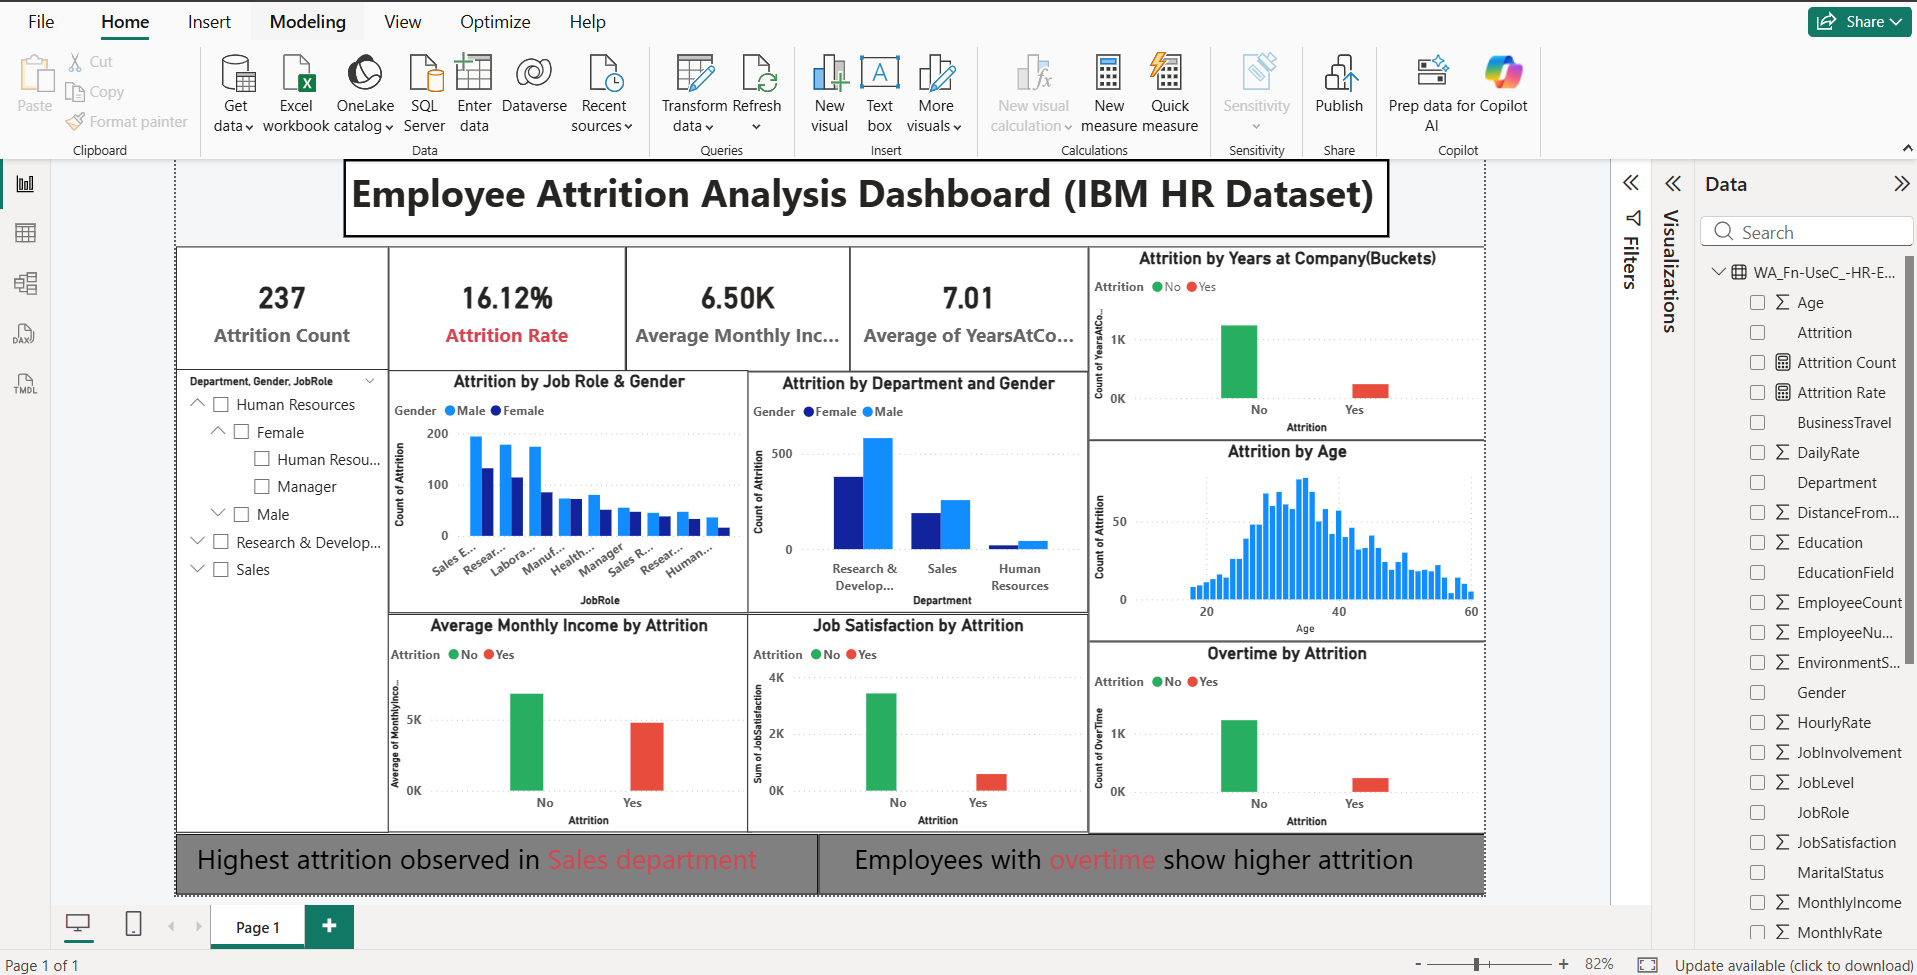

The page's visual inventory and layout, read from the dashboard file:
{"tool":"powerbi","page":{"name":"Page 1","canvas":[1280,720],"ordinal":0},"visuals":[{"type":"textbox","box":[163.7,0,1023.4,76.8],"z":0},{"type":"card","fields":{"Values":["WA_Fn-UseC_-HR-Employee-Attrition.Attrition Count"]},"box":[0,85.6,207.9,122.3],"z":1000},{"type":"card","fields":{"Values":["WA_Fn-UseC_-HR-Employee-Attrition.Attrition Rate"]},"box":[207.9,85.6,232.3,122.3],"z":2000},{"type":"card","fields":{"Values":["Avg(WA_Fn-UseC_-HR-Employee-Attrition.MonthlyIncome)"]},"box":[440.2,85.6,218.9,122.3],"z":3000},{"type":"clusteredColumnChart","title":"Average Monthly Income by Attrition ","fields":{"Category":["WA_Fn-UseC_-HR-Employee-Attrition.Attrition"],"Y":["Avg(WA_Fn-UseC_-HR-Employee-Attrition.MonthlyIncome)"],"Series":["WA_Fn-UseC_-HR-Employee-Attrition.Attrition"]},"box":[204.2,445.1,359.5,214],"z":4000},{"type":"clusteredColumnChart","title":"Overtime by Attrition","fields":{"Category":["WA_Fn-UseC_-HR-Employee-Attrition.Attrition"],"Y":["CountNonNull(WA_Fn-UseC_-HR-Employee-Attrition.OverTime)"],"Series":["WA_Fn-UseC_-HR-Employee-Attrition.Attrition"]},"box":[892.7,472,387.6,188.3],"z":5000},{"type":"clusteredColumnChart","title":"Attrition by Department and Gender","fields":{"Category":["WA_Fn-UseC_-HR-Employee-Attrition.Department"],"Series":["WA_Fn-UseC_-HR-Employee-Attrition.Gender"],"Y":["CountNonNull(WA_Fn-UseC_-HR-Employee-Attrition.Attrition)"]},"box":[558.8,207.9,333.8,236],"z":6000},{"type":"slicer","fields":{"Values":["WA_Fn-UseC_-HR-Employee-Attrition.Department","WA_Fn-UseC_-HR-Employee-Attrition.Gender","WA_Fn-UseC_-HR-Employee-Attrition.JobRole"]},"box":[0,205.4,207.9,453.7],"z":7000},{"type":"clusteredColumnChart","title":"Attrition by Age","fields":{"Category":["WA_Fn-UseC_-HR-Employee-Attrition.Age"],"Y":["CountNonNull(WA_Fn-UseC_-HR-Employee-Attrition.Attrition)"]},"box":[892.7,275.1,387.6,196.9],"z":8000},{"type":"clusteredColumnChart","title":"Job Satisfaction by Attrition ","fields":{"Category":["WA_Fn-UseC_-HR-Employee-Attrition.Attrition"],"Y":["Sum(WA_Fn-UseC_-HR-Employee-Attrition.JobSatisfaction)"],"Series":["WA_Fn-UseC_-HR-Employee-Attrition.Attrition"]},"box":[558.8,445.1,333.8,214],"z":9000},{"type":"card","fields":{"Values":["Avg(WA_Fn-UseC_-HR-Employee-Attrition.YearsAtCompany)"]},"box":[659.1,85.6,233.6,122.3],"z":10000},{"type":"clusteredColumnChart","title":"Attrition by Job Role & Gender","fields":{"Category":["WA_Fn-UseC_-HR-Employee-Attrition.JobRole"],"Y":["CountNonNull(WA_Fn-UseC_-HR-Employee-Attrition.Attrition)"],"Series":["WA_Fn-UseC_-HR-Employee-Attrition.Gender"]},"box":[207.9,206.7,352.2,237.2],"z":11000},{"type":"clusteredColumnChart","title":"Attrition by Years at Company(Buckets)","fields":{"Y":["CountNonNull(WA_Fn-UseC_-HR-Employee-Attrition.YearsAtCompany)"],"Category":["WA_Fn-UseC_-HR-Employee-Attrition.Attrition"],"Series":["WA_Fn-UseC_-HR-Employee-Attrition.Attrition"]},"box":[892.7,85.6,387.6,189.5],"z":12000},{"type":"textbox","box":[0,660.9,628.2,59.2],"z":13000},{"type":"textbox","box":[628.2,660.9,652.1,59.2],"z":14000}]}

Visuals, with their boxes on the page's 1280x720 design canvas (x1, y1, x2, y2). These are canvas units, not pixel positions in the 1917x975 screenshot, which may show the page scaled, cropped or inside an application window:
textbox: {"left": 164, "top": 0, "right": 1187, "bottom": 77}
card - WA_Fn-UseC_-HR-Employee-Attrition.Attrition Count: {"left": 0, "top": 86, "right": 208, "bottom": 208}
card - WA_Fn-UseC_-HR-Employee-Attrition.Attrition Rate: {"left": 208, "top": 86, "right": 440, "bottom": 208}
card - Avg(WA_Fn-UseC_-HR-Employee-Attrition.MonthlyIncome): {"left": 440, "top": 86, "right": 659, "bottom": 208}
"Average Monthly Income by Attrition " clusteredColumnChart: {"left": 204, "top": 445, "right": 564, "bottom": 659}
"Overtime by Attrition" clusteredColumnChart: {"left": 893, "top": 472, "right": 1280, "bottom": 660}
"Attrition by Department and Gender" clusteredColumnChart: {"left": 559, "top": 208, "right": 893, "bottom": 444}
slicer - WA_Fn-UseC_-HR-Employee-Attrition.Department x WA_Fn-UseC_-HR-Employee-Attrition.Gender: {"left": 0, "top": 205, "right": 208, "bottom": 659}
"Attrition by Age" clusteredColumnChart: {"left": 893, "top": 275, "right": 1280, "bottom": 472}
"Job Satisfaction by Attrition " clusteredColumnChart: {"left": 559, "top": 445, "right": 893, "bottom": 659}
card - Avg(WA_Fn-UseC_-HR-Employee-Attrition.YearsAtCompany): {"left": 659, "top": 86, "right": 893, "bottom": 208}
"Attrition by Job Role & Gender" clusteredColumnChart: {"left": 208, "top": 207, "right": 560, "bottom": 444}
"Attrition by Years at Company(Buckets)" clusteredColumnChart: {"left": 893, "top": 86, "right": 1280, "bottom": 275}
textbox: {"left": 0, "top": 661, "right": 628, "bottom": 720}
textbox: {"left": 628, "top": 661, "right": 1280, "bottom": 720}
